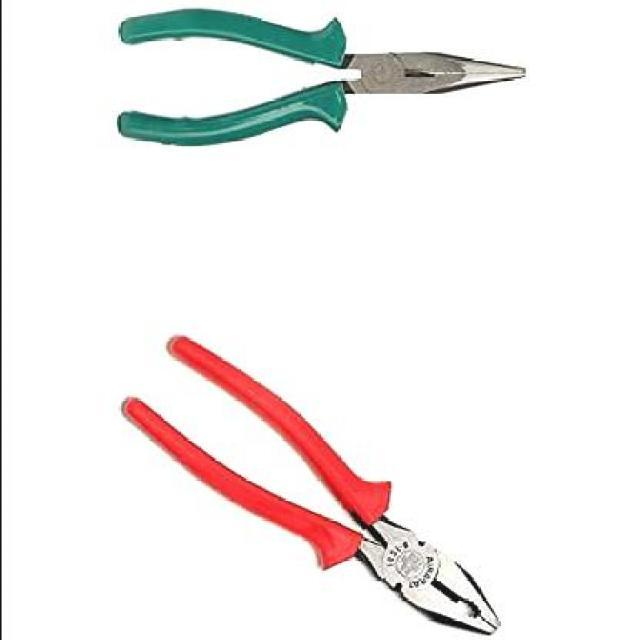pliers: (115, 3, 528, 148)
